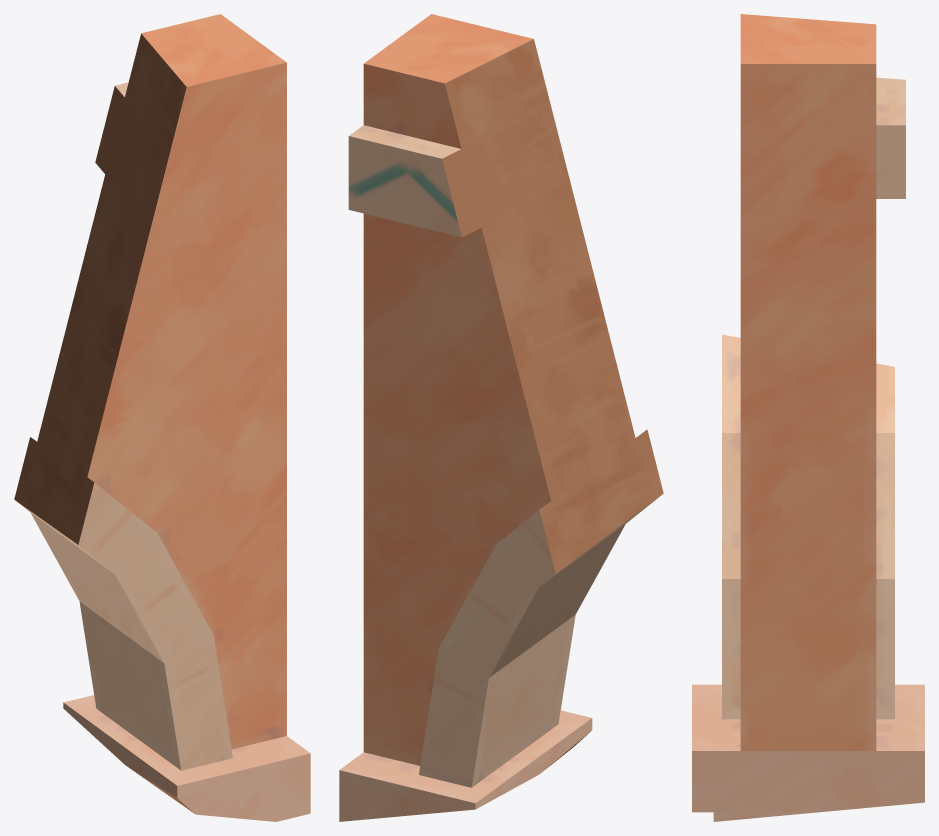
The model's file is wall2_arcade_s06.fbx.
3 views of the same model, side by side, from view 1: azimuth 30°, elevation 25°; view 2: azimuth 150°, elevation 25°; view 3: azimuth 270°, elevation 25° (orthographic). The views are drawn at different scales.
Parts seen in each view (by area): view 1: wall2_arcade_s06; view 2: wall2_arcade_s06; view 3: wall2_arcade_s06.
Part boxes in pixels (x1,y1,x2,y2): wall2_arcade_s06: (14, 14, 310, 821); wall2_arcade_s06: (339, 14, 663, 821); wall2_arcade_s06: (692, 14, 924, 821).
Bounding box in the file's own units: 1.9 × 6.18 × 1.72.
